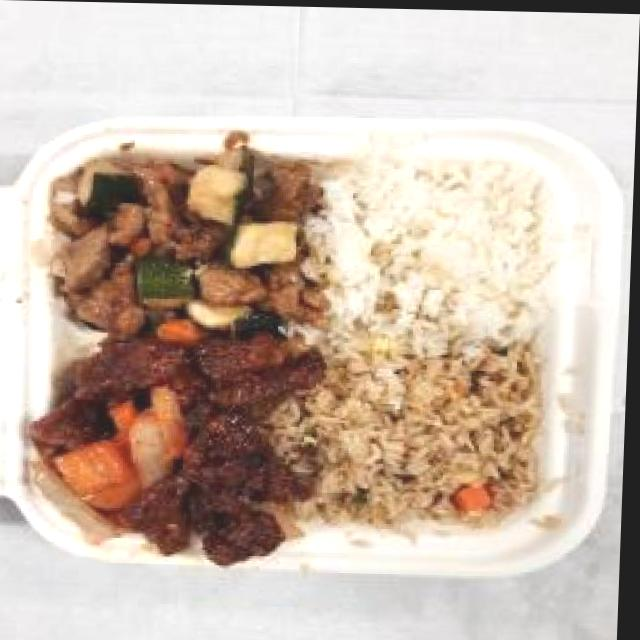Beijing Beef: (22, 329, 328, 567)
Fried Rice: (295, 343, 548, 528)
Kung Pao Chicken: (38, 141, 319, 339)
White Steamed Rice: (318, 153, 564, 345)
